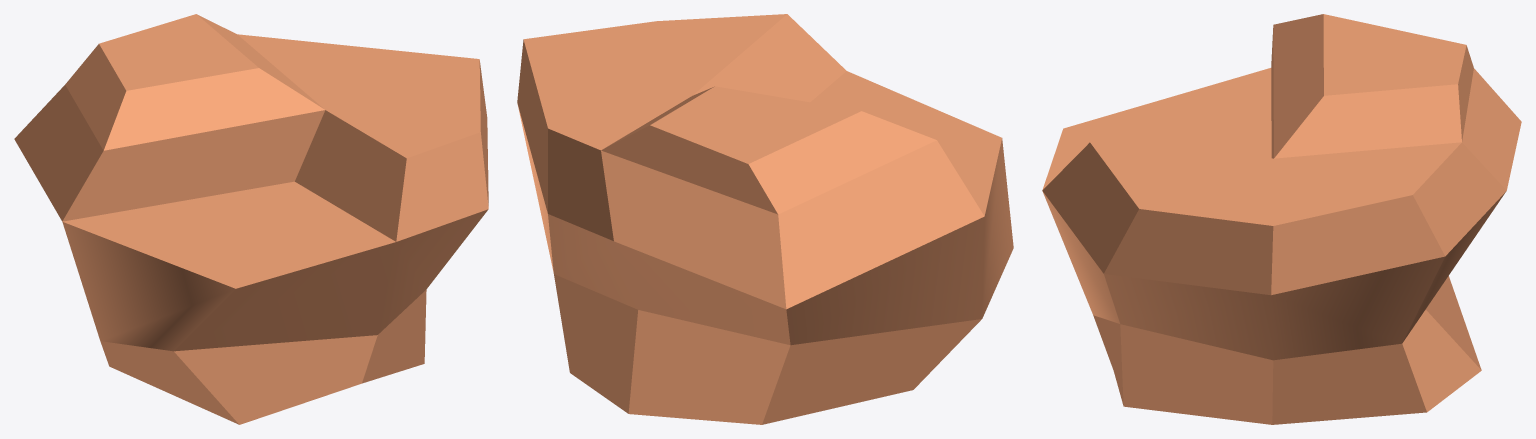
Rendered from Rock_Han_Autumn.fbx.
The picture shows the model from 3 angles, left to right: view 1: azimuth 30°, elevation 25°; view 2: azimuth 150°, elevation 25°; view 3: azimuth 270°, elevation 25°; orthographic projection. The views are drawn at different scales.
Parts seen in each view (by area): view 1: Rock_Fall; view 2: Rock_Fall; view 3: Rock_Fall.
Part boxes in pixels (x1=…): Rock_Fall: x1=14, y1=14, x2=488, y2=424; Rock_Fall: x1=517, y1=14, x2=1013, y2=424; Rock_Fall: x1=1042, y1=14, x2=1521, y2=424.
Size of the model in its own units: 0.0224 by 0.0129 by 0.02.
